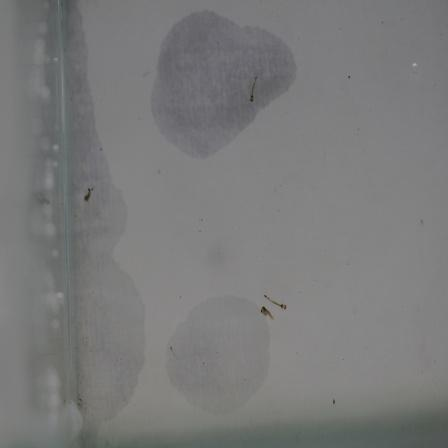Jentik-Nyamuk: (258, 291, 292, 326), (244, 72, 261, 108), (81, 184, 96, 205)
